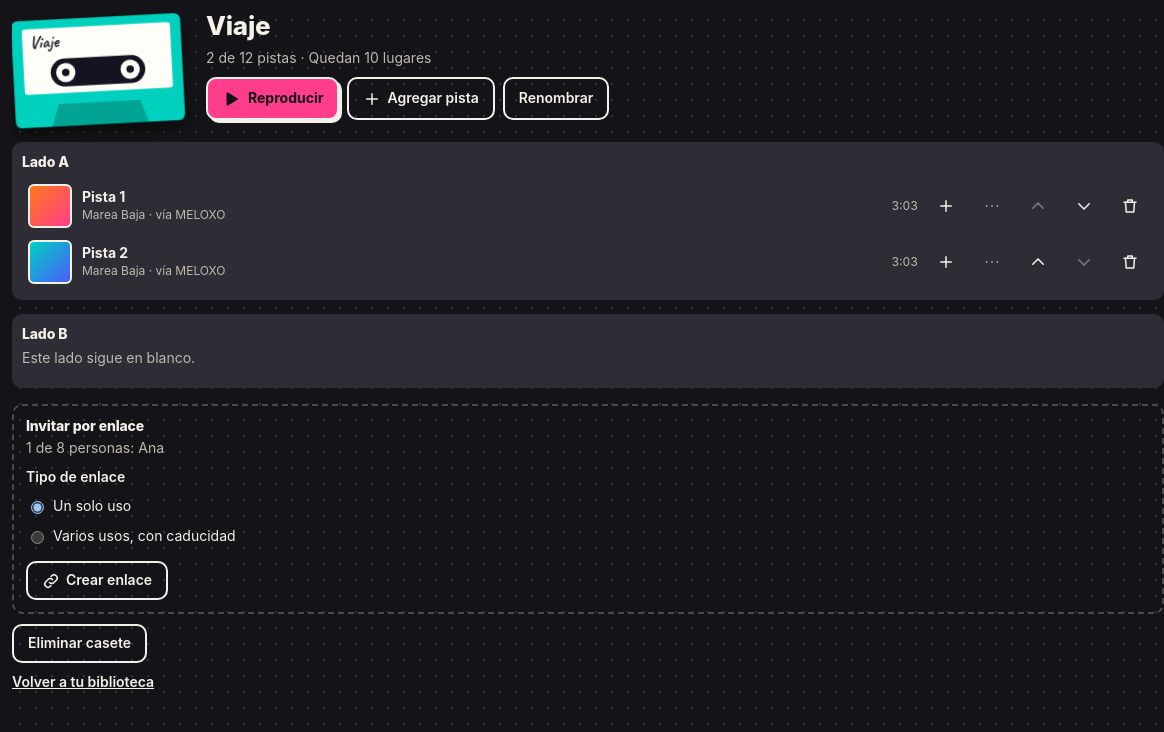
409 al reordenar avisa y recarga el orden
Click the button named "Bajar Pista 1": click(1084, 206) x1=1066 y1=188 x2=1102 y2=224
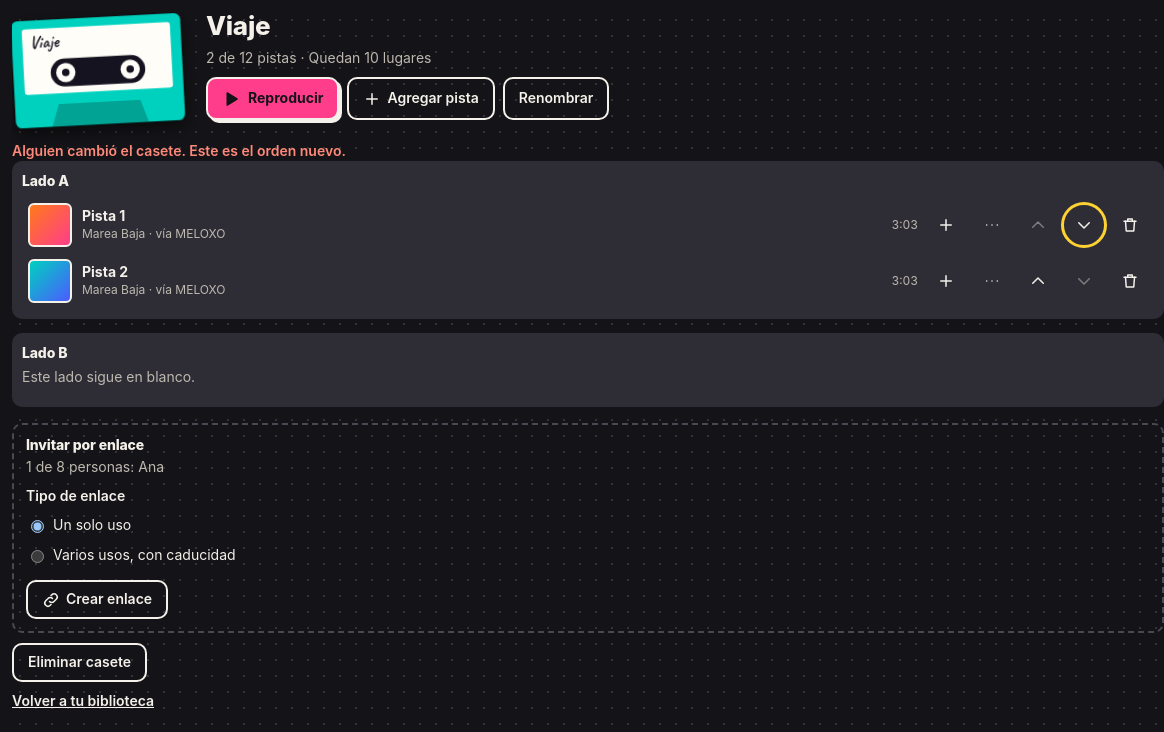
Check: the message shows "Alguien cambió el casete", box x1=12 y1=142 x2=346 y2=159
